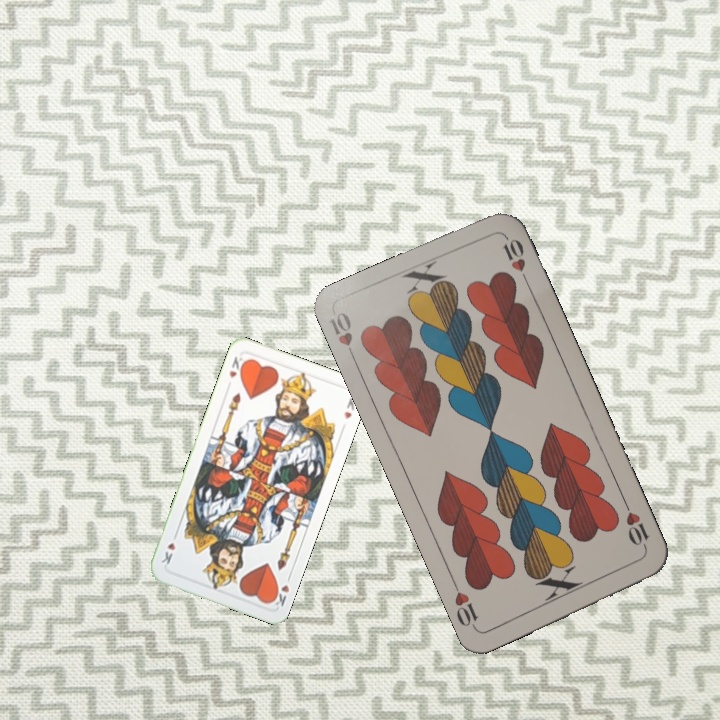H10: (325, 308, 360, 366), (620, 498, 652, 554)
HK: (267, 570, 294, 610), (225, 352, 248, 380)
